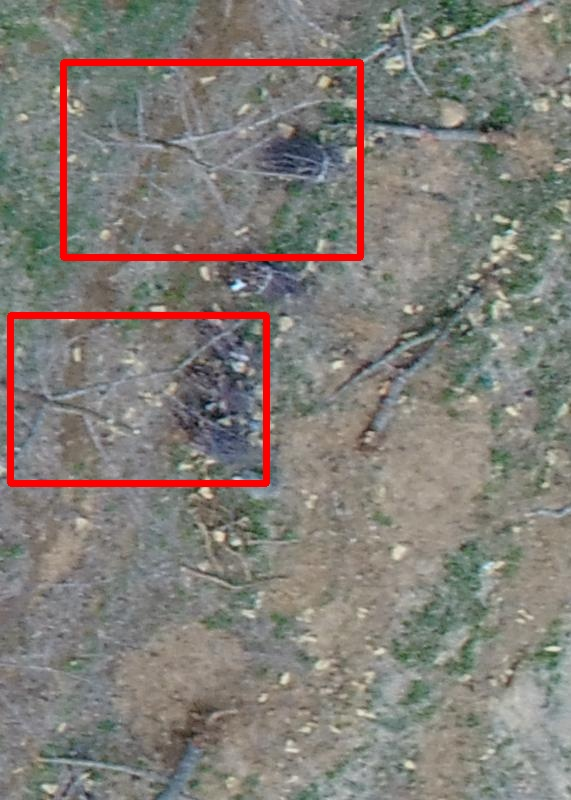apple: (63, 62, 360, 257), (10, 315, 266, 483)
